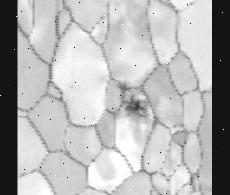good_void: (123, 93, 149, 118)
